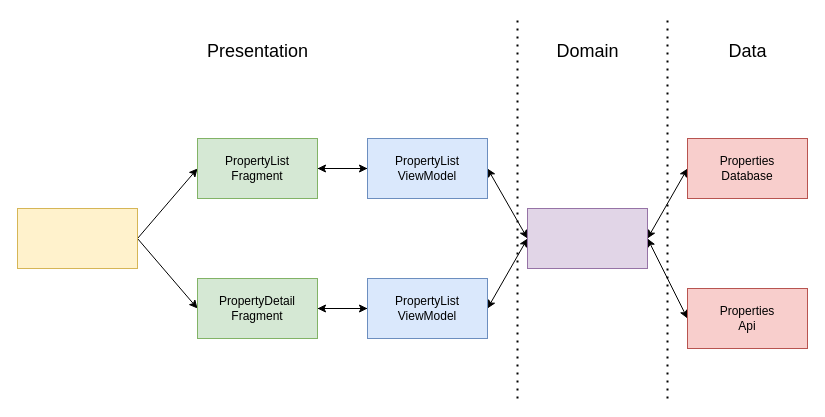
The diagram is 825 pixels wide and 417 high, and some of its shapes have lost their labels. The centre of each missing label's shape, as x and y in pixels:
MainActivity: the point at 77,238
Properties Repository: the point at 587,238
